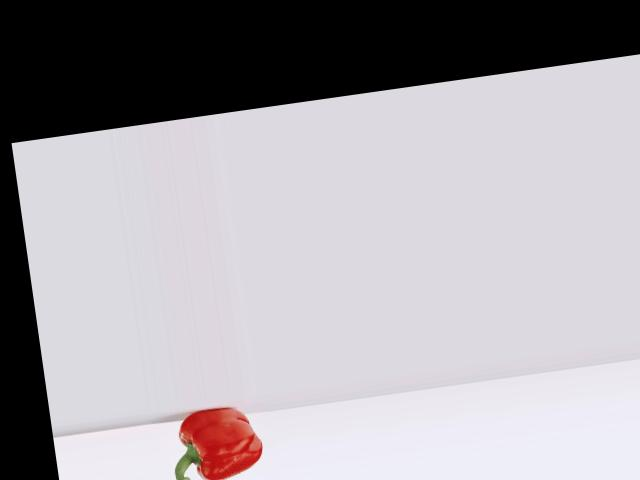bell_pepper: (157, 399, 271, 480)
